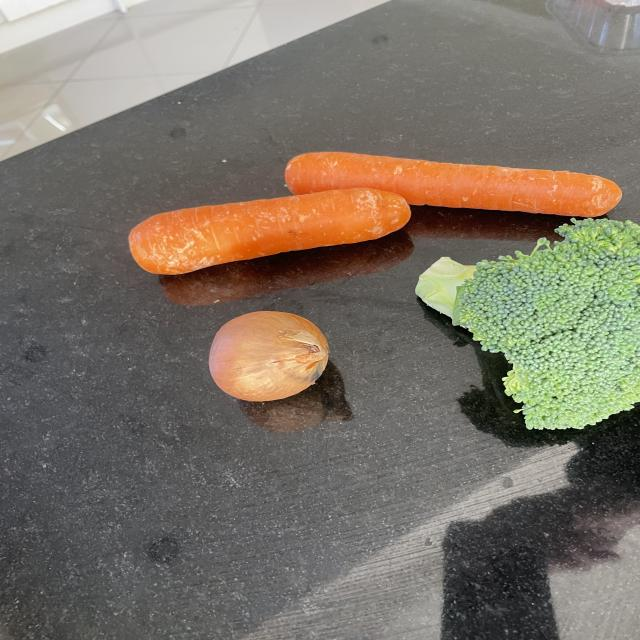Broccoli: (412, 217, 640, 431)
Carrot: (130, 186, 412, 276), (286, 151, 625, 219)
Onion: (206, 309, 334, 403)
